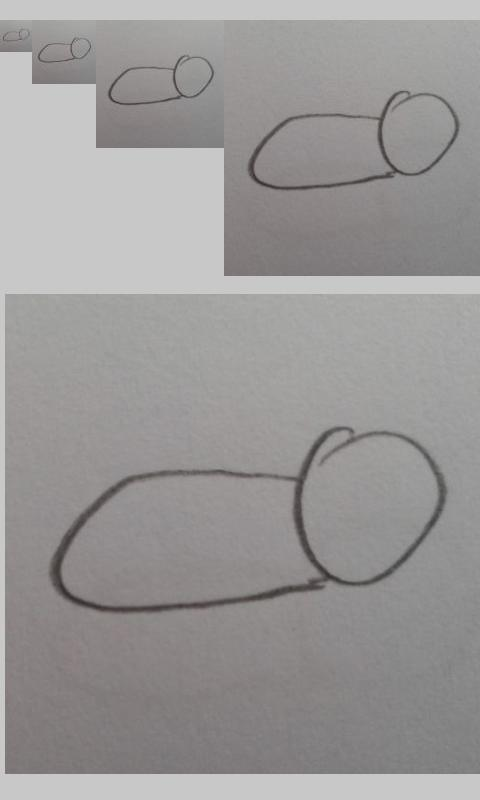switch: (48, 425, 448, 614), (248, 90, 460, 191), (108, 54, 214, 106), (37, 37, 92, 63), (3, 28, 31, 42)
